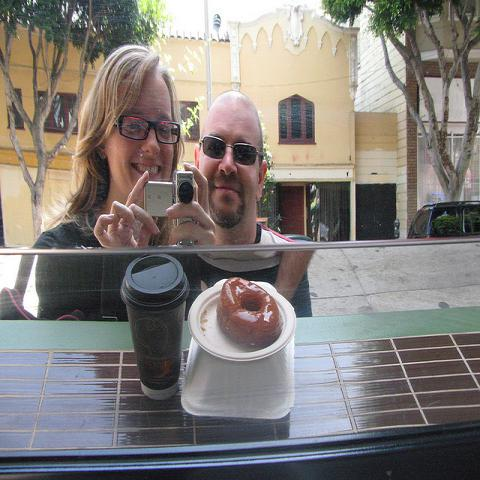car: (406, 200, 480, 239)
